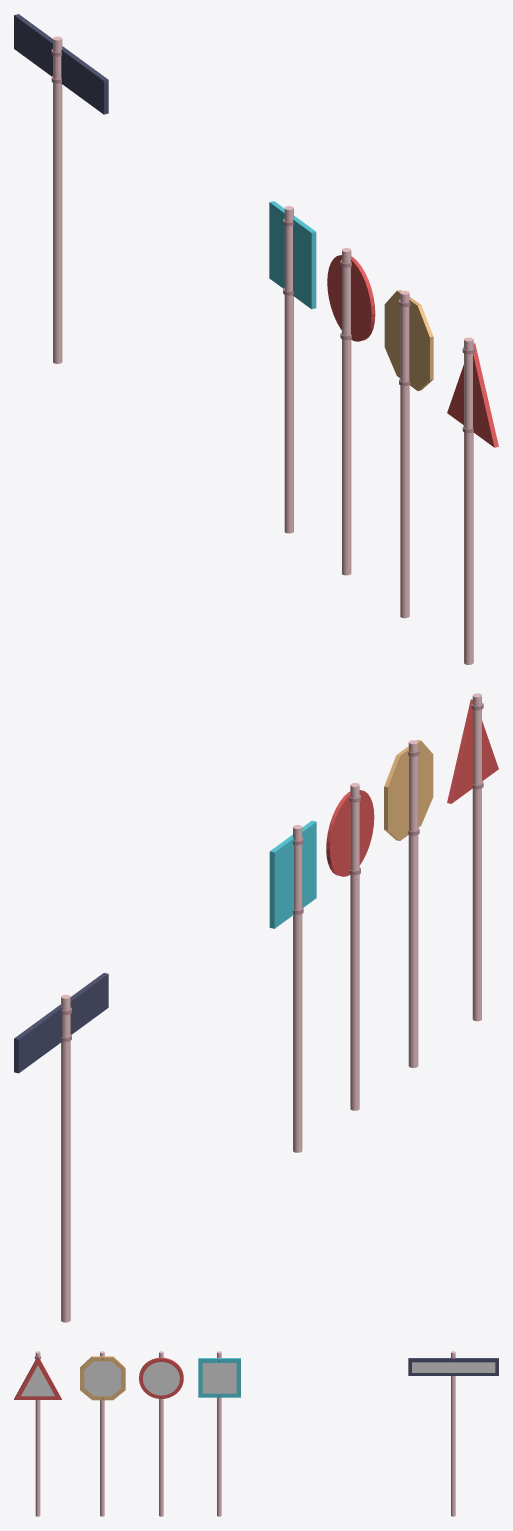
Rendered from Straatobject1_Tinka(verkeersborden) 1.fbx.
The picture shows the model from 3 angles, top to bottom: view 1: azimuth 30°, elevation 25°; view 2: azimuth 150°, elevation 25°; view 3: azimuth 270°, elevation 25°; orthographic projection. The views are drawn at different scales.
Parts seen in each view (by area): view 1: Plane.002, Circle.005, Circle.001, Circle.006, Circle.007, Plane.001, Circle.008, Plane.006, Circle.004, Icosphere.004; view 2: Circle.005, Plane.002, Circle.006, Circle.001, Circle.007, Plane.001, Circle.008, Plane.006, Circle.004, Icosphere.004; view 3: Plane.006, Plane.001, Plane.002, Circle.004, Icosphere.004, Circle.007, Circle.001, Circle.008, Circle.006, Circle.005.
Part boxes in pixels (x1=…): Plane.002: x1=14, y1=14, x2=108, y2=114; Circle.005: x1=399, y1=290, x2=410, y2=618; Circle.001: x1=51, y1=36, x2=62, y2=363; Circle.006: x1=340, y1=248, x2=351, y2=575; Circle.007: x1=462, y1=337, x2=474, y2=664; Plane.001: x1=269, y1=201, x2=316, y2=309; Circle.008: x1=283, y1=206, x2=293, y2=533; Plane.006: x1=384, y1=290, x2=433, y2=390; Circle.004: x1=327, y1=255, x2=375, y2=341; Icosphere.004: x1=447, y1=343, x2=498, y2=447; Circle.005: x1=408, y1=740, x2=419, y2=1067; Plane.002: x1=14, y1=973, x2=108, y2=1073; Circle.006: x1=349, y1=783, x2=360, y2=1110; Circle.001: x1=61, y1=994, x2=71, y2=1322; Circle.007: x1=471, y1=693, x2=483, y2=1021; Plane.001: x1=269, y1=820, x2=316, y2=928; Circle.008: x1=293, y1=825, x2=303, y2=1152; Plane.006: x1=384, y1=740, x2=433, y2=840; Circle.004: x1=326, y1=790, x2=374, y2=876; Icosphere.004: x1=447, y1=699, x2=498, y2=803; Plane.006: x1=80, y1=1356, x2=125, y2=1400; Plane.001: x1=198, y1=1358, x2=240, y2=1397; Plane.002: x1=408, y1=1358, x2=498, y2=1375; Circle.004: x1=139, y1=1357, x2=183, y2=1398; Icosphere.004: x1=14, y1=1356, x2=61, y2=1399; Circle.007: x1=34, y1=1351, x2=40, y2=1516; Circle.001: x1=450, y1=1351, x2=455, y2=1516; Circle.008: x1=217, y1=1351, x2=221, y2=1516; Circle.006: x1=159, y1=1351, x2=163, y2=1516; Circle.005: x1=99, y1=1351, x2=104, y2=1516.
Size of the model in its own units: 100 by 2463 by 6627.
